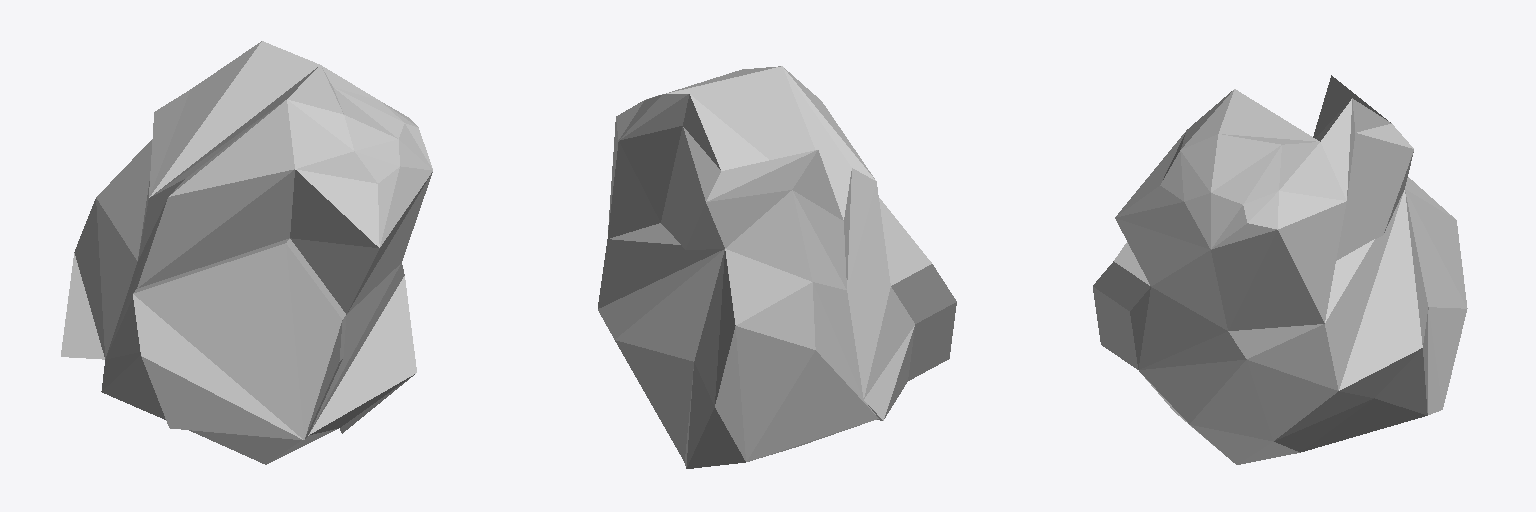
File: Roca2.obj
The picture shows the model from 3 angles: view 1: azimuth 30°, elevation 25°; view 2: azimuth 150°, elevation 25°; view 3: azimuth 270°, elevation 25°; orthographic projection.
Visible parts, largest first — view 1: Icosphere; view 2: Icosphere; view 3: Icosphere.
Part boxes in pixels (x1,y1,x2,y2): Icosphere: (61, 41, 432, 464); Icosphere: (598, 66, 956, 468); Icosphere: (1093, 75, 1467, 464).
Bounding box in the file's own units: 2.14 × 2.38 × 2.27.